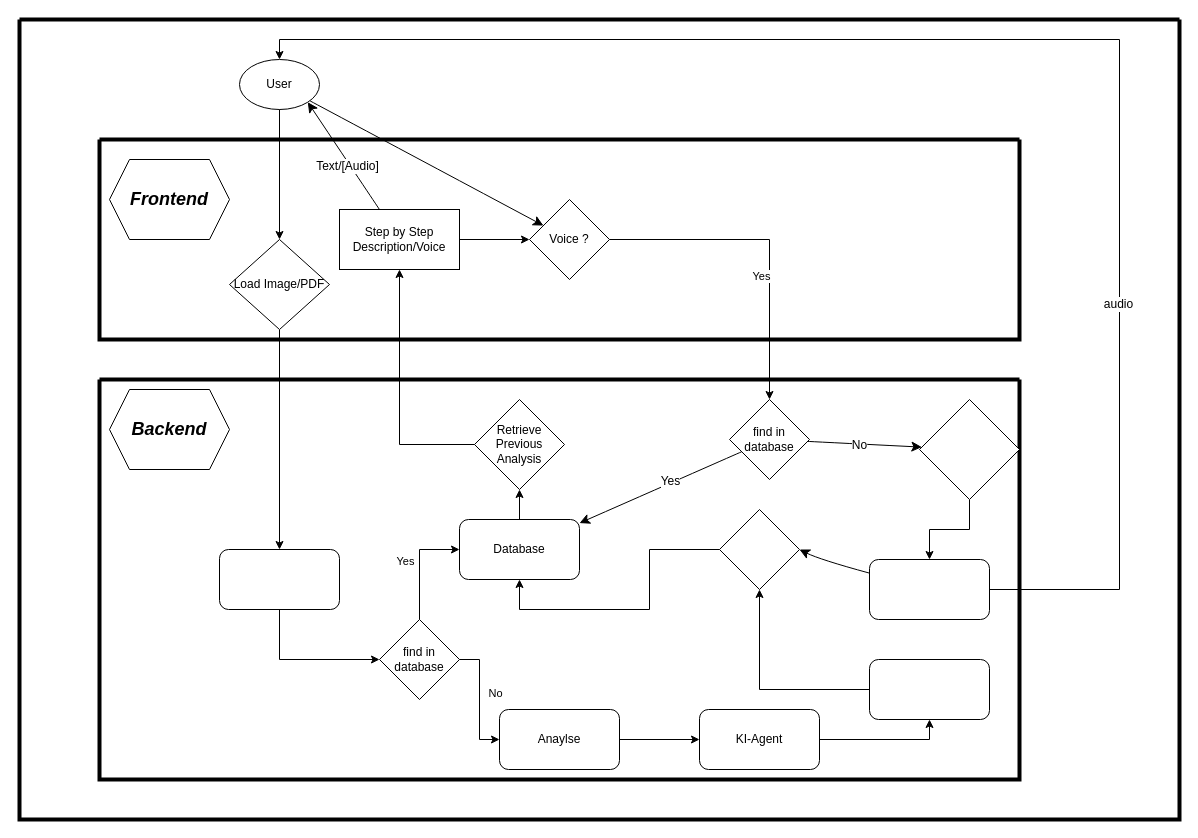
This 1198x838 diagram has some shape labels left out. The shapes that lost their labels are listed below. From the top down, each one's centre as x and y in pixels, then its label:
the point at 969,449: Preprocess for voice
the point at 759,549: Save Result
the point at 279,579: Preprocessing
the point at 929,589: Voice Generation
the point at 929,689: Text Output in JSON
